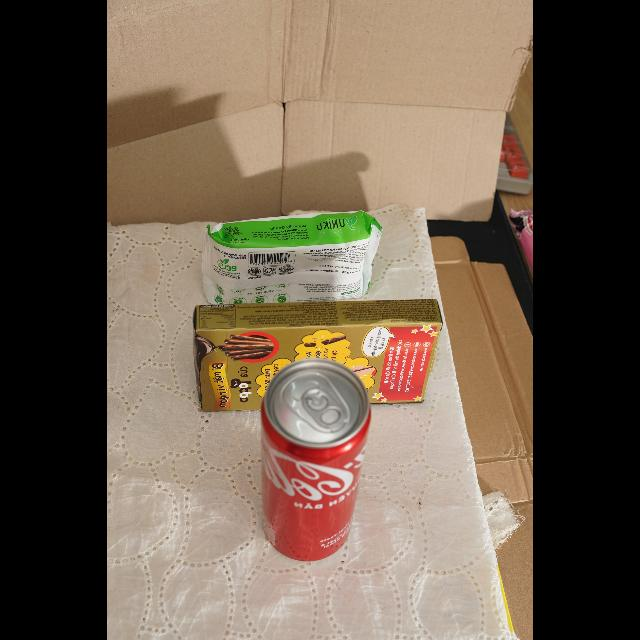banh_toppo_socola: (193, 299, 442, 410)
coca_cola: (261, 360, 371, 561)
khan_giay: (202, 211, 381, 305)
